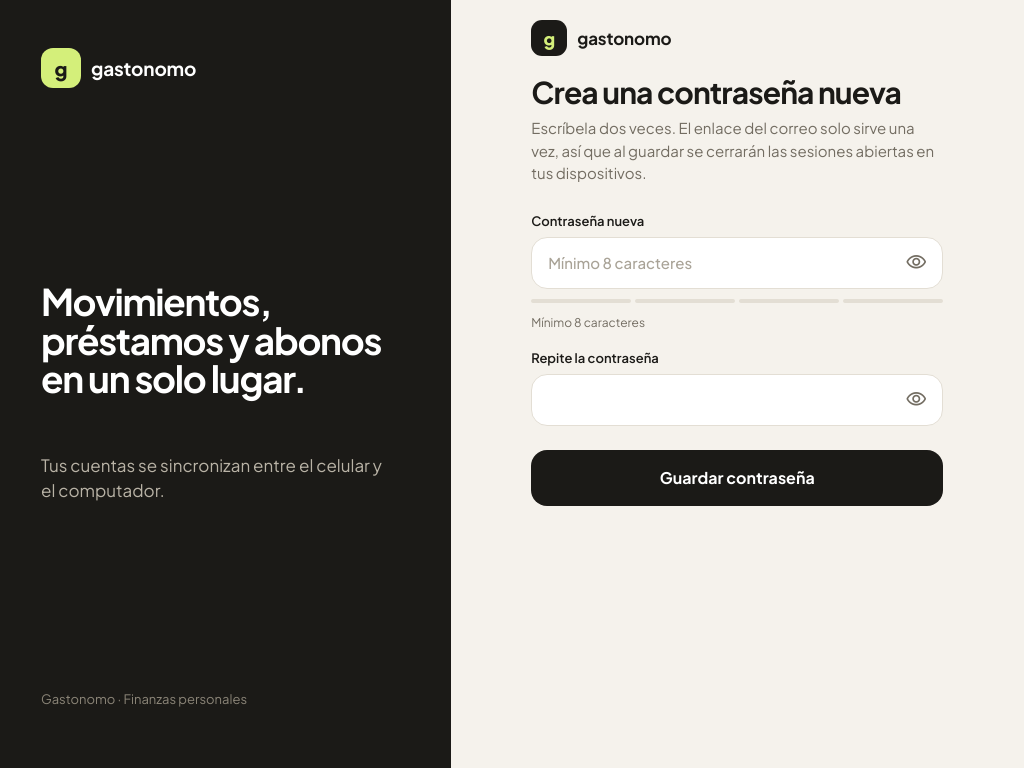
Test: la pantalla de restablecer contrasena › con el enlace caducado deja de pedir la contrasena y manda a pedir otro
In the password field labelled "Contraseña nueva": {"x": 737, "y": 262} top-left (531, 236), bottom-right (943, 288), type "contrasena9"
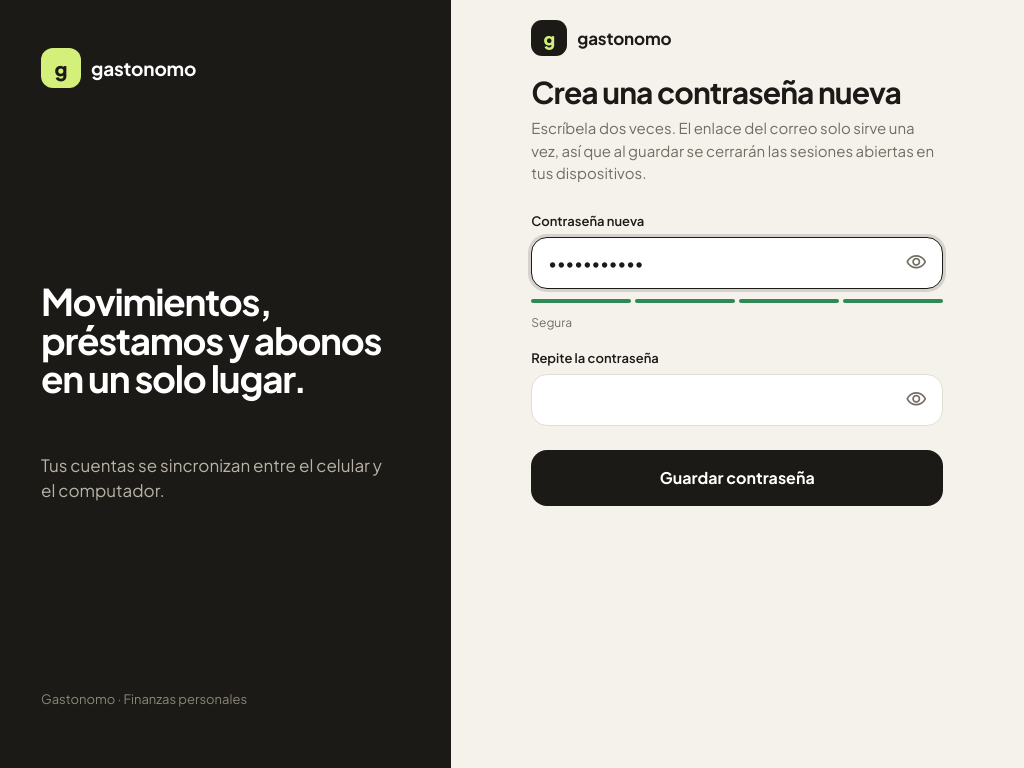
In the password field labelled "Repite la contraseña": {"x": 737, "y": 400} top-left (531, 374), bottom-right (943, 426), type "contrasena9"
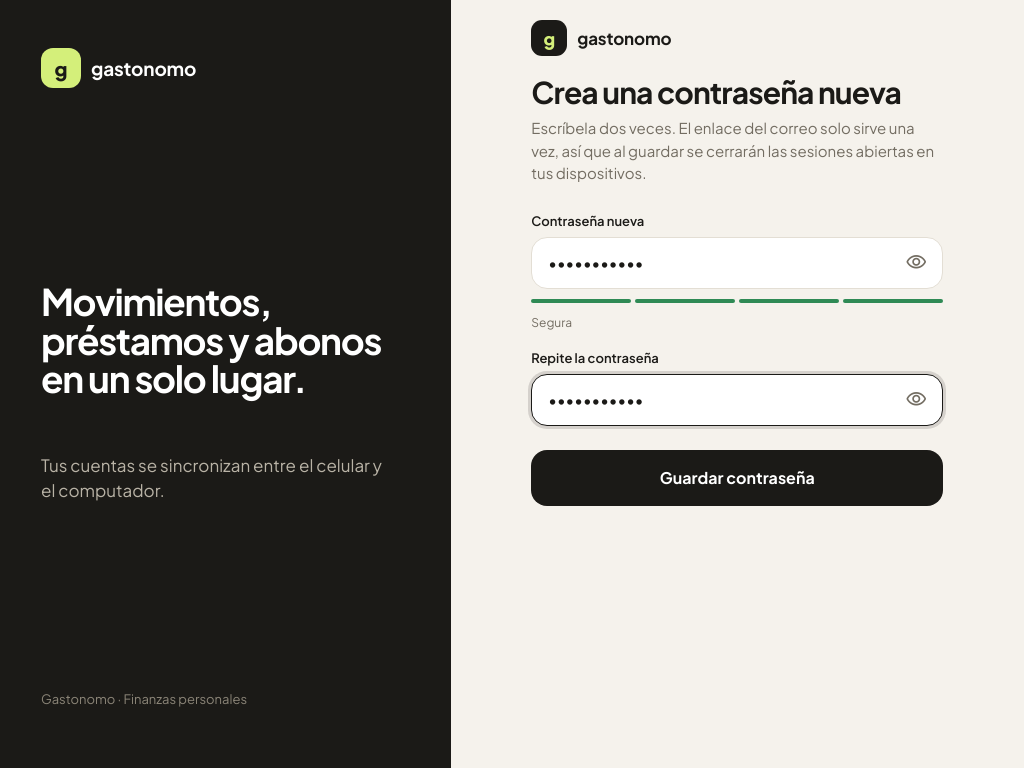
Click the button "Guardar contraseña": {"x": 737, "y": 478} top-left (531, 450), bottom-right (943, 506)
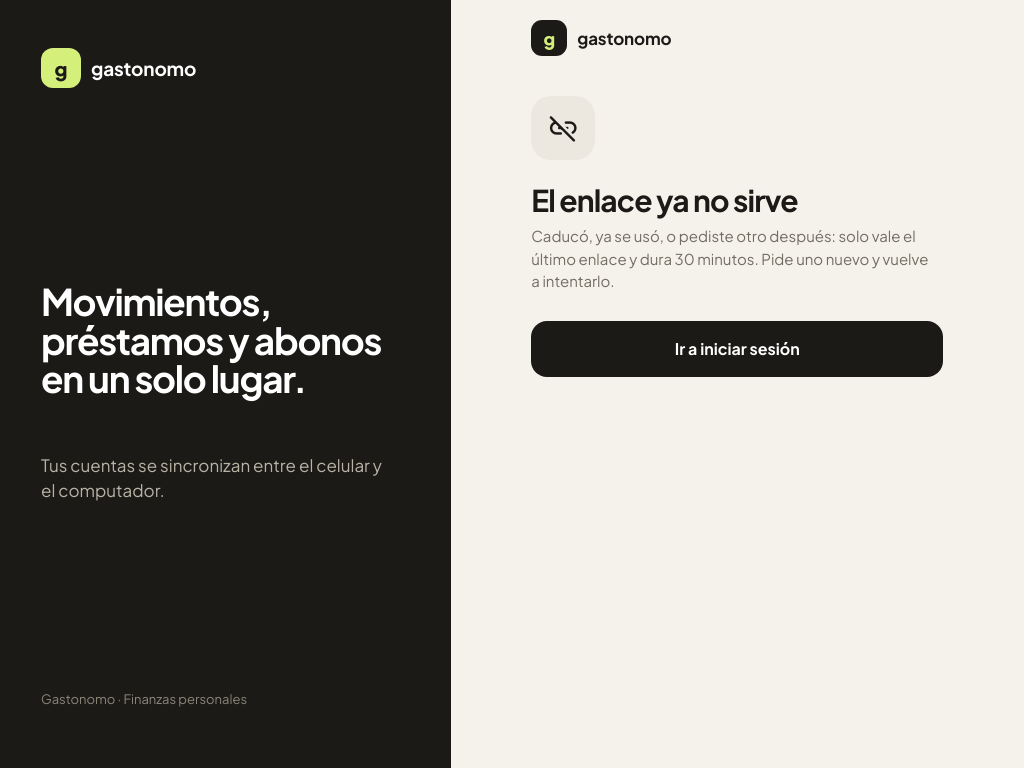
Expected: the heading "El enlace ya no sirve" is shown, top-left (531, 181), bottom-right (798, 219)
Expected: the heading labelled "contraseña nueva" is gone
